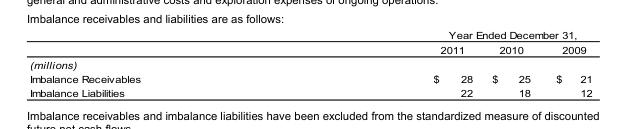table: (29, 28, 591, 98)
table column: (29, 28, 286, 98), (286, 28, 481, 98), (481, 28, 542, 98), (542, 28, 591, 98)
table column header: (29, 28, 591, 57)
table projected row header: (29, 57, 591, 71)
table row: (29, 41, 591, 57), (29, 57, 591, 71), (29, 71, 591, 85), (29, 28, 591, 41), (29, 85, 591, 98)
table spanning cell: (286, 28, 591, 41)
